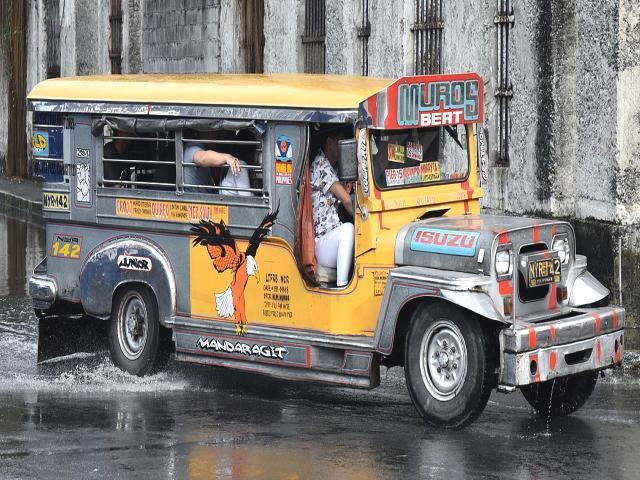jeepney: (20, 51, 630, 422)
